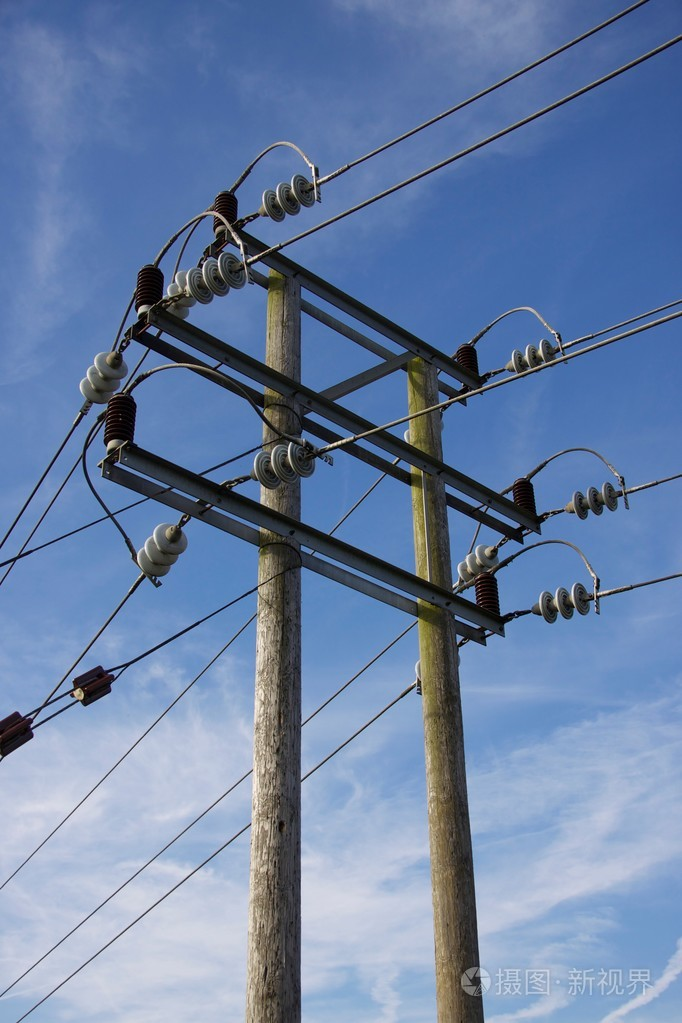insulator: (183, 253, 242, 304), (137, 524, 188, 579), (253, 443, 314, 487), (79, 349, 125, 405), (537, 582, 592, 624), (265, 175, 313, 222), (458, 544, 498, 586), (574, 481, 617, 520), (509, 341, 556, 370), (163, 272, 189, 318)
